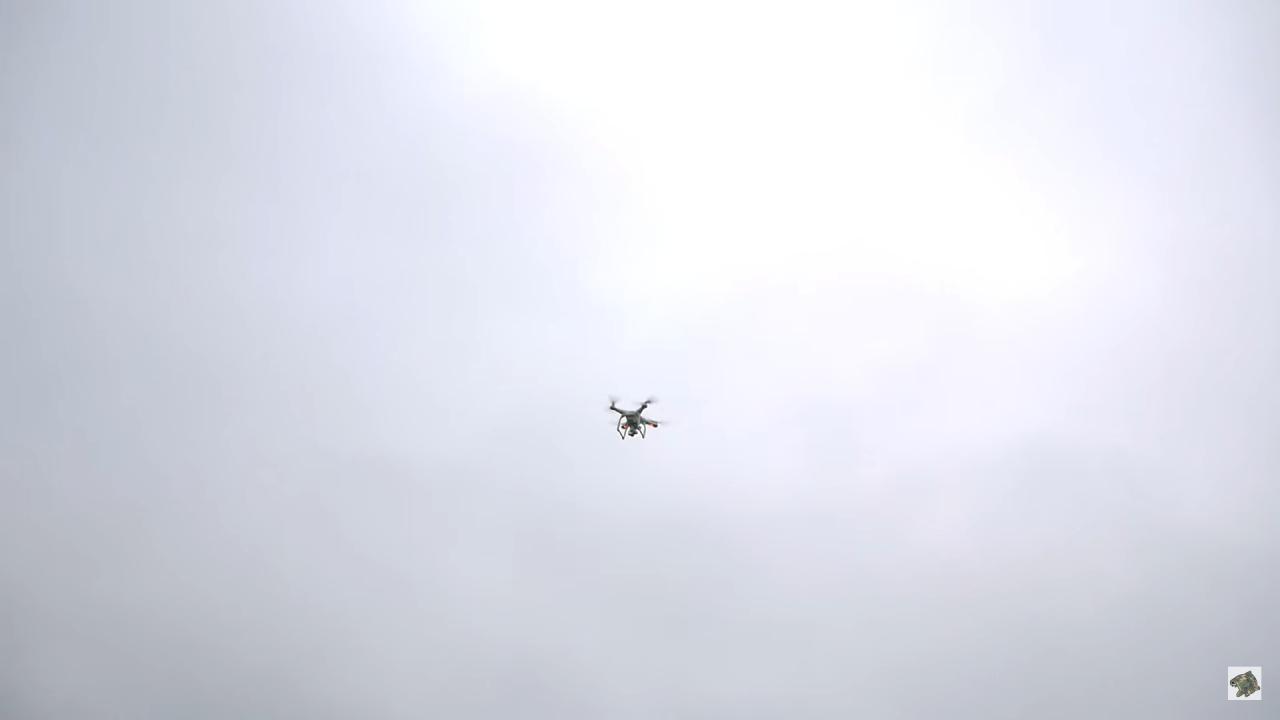Drone: (593, 382, 679, 453)
